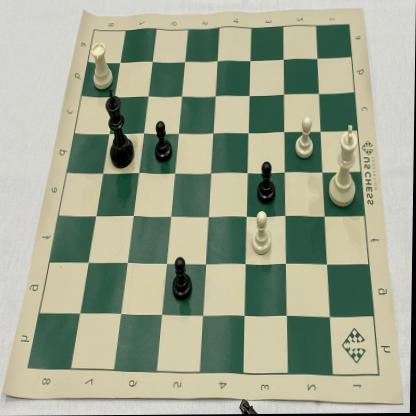black-king: (104, 91, 138, 172)
black-pawn: (169, 252, 197, 304), (254, 158, 279, 207), (154, 115, 175, 166)
white-king: (325, 121, 365, 209)
white-pawn: (249, 210, 276, 258), (292, 115, 319, 163)
white-rook: (89, 39, 114, 93)
